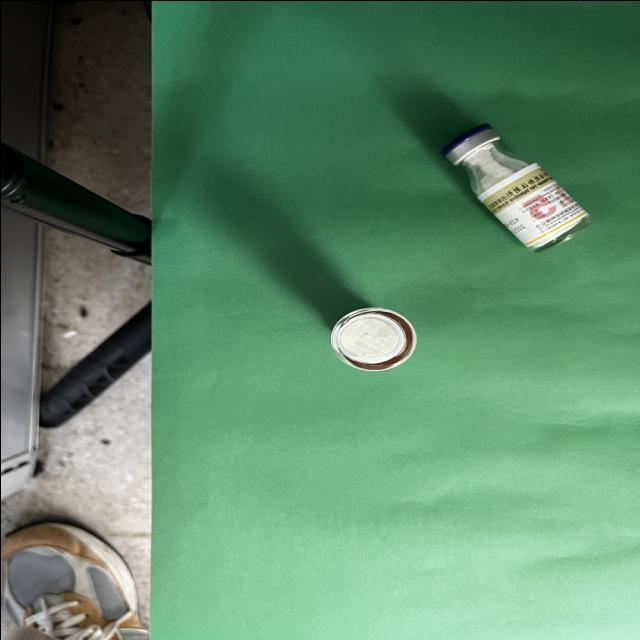Vials: (441, 121, 593, 252), (329, 305, 417, 370)
